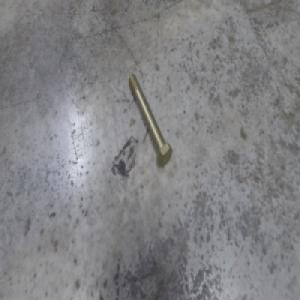Bolt: (132, 73, 175, 165)
